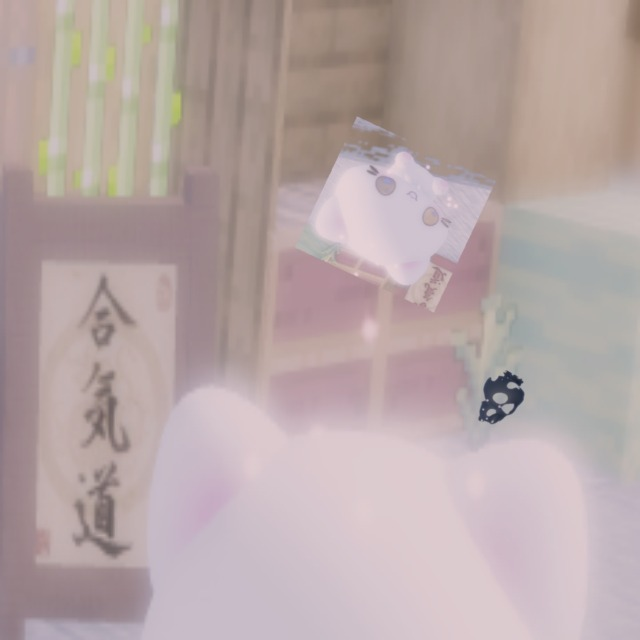urso_branco: (295, 116, 496, 313)
urso_preto: (462, 362, 534, 439)
